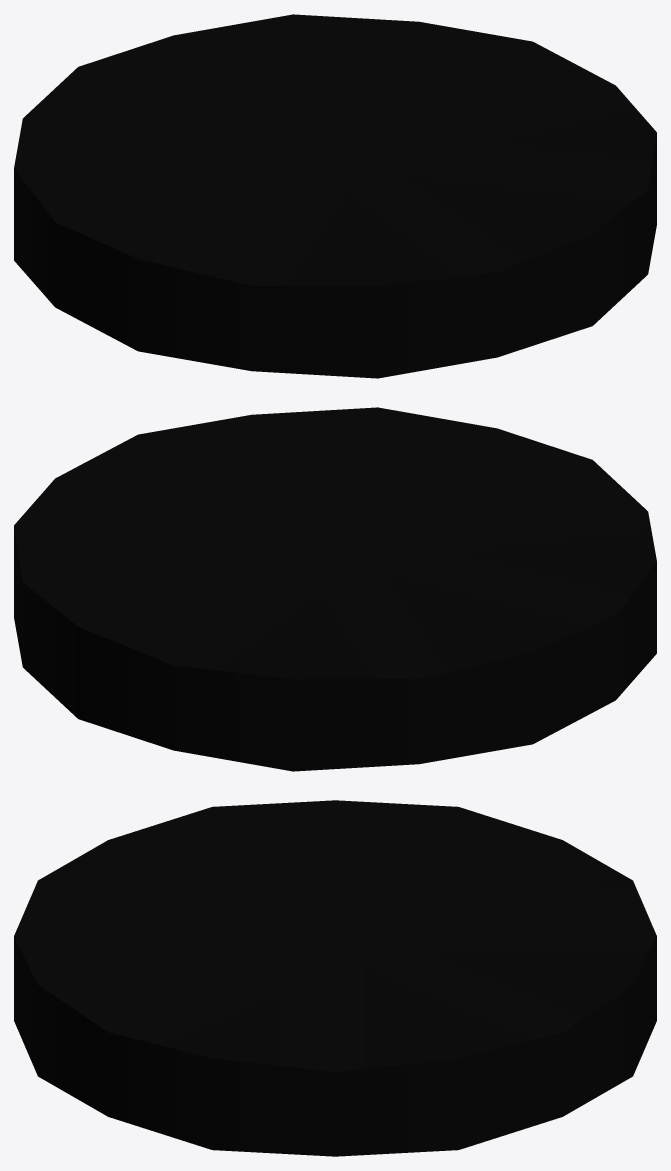
The model's file is jinbi.fbx.
3 views of the same model, one above another, from view 1: azimuth 30°, elevation 25°; view 2: azimuth 150°, elevation 25°; view 3: azimuth 270°, elevation 25° (orthographic).
Parts seen in each view (by area): view 1: jinbi; view 2: jinbi; view 3: jinbi.
Boxes of the visible parts, x1,y1,x2,y2 form: jinbi: [14, 14, 656, 378]; jinbi: [14, 407, 656, 771]; jinbi: [14, 800, 656, 1156].
Bounding box in the file's own units: 14.8 × 2.33 × 14.8.
